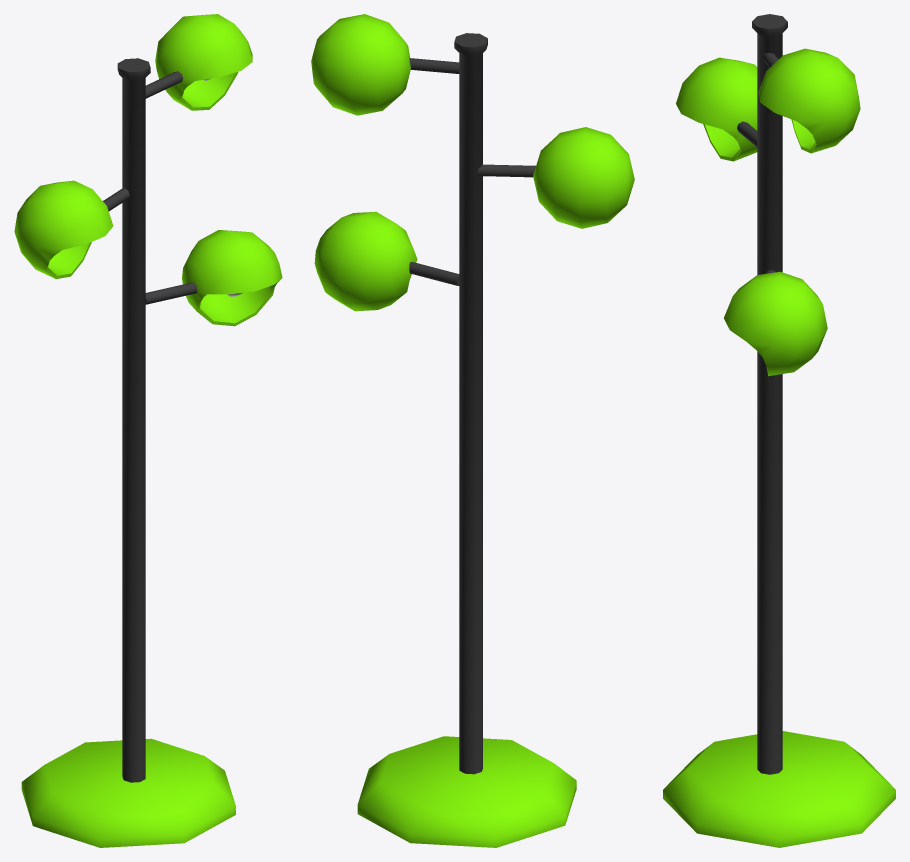
The model's file is Floor_Lamp_04.FBX.
3 renders of one model, left to right at view 1: azimuth 30°, elevation 25°; view 2: azimuth 150°, elevation 25°; view 3: azimuth 270°, elevation 25°, orthographic. The views are drawn at different scales.
Visible parts, largest first — view 1: Floor_Lamp; view 2: Floor_Lamp; view 3: Floor_Lamp.
Part boxes in pixels (x1,y1,x2,y2): Floor_Lamp: [14, 14, 282, 847]; Floor_Lamp: [311, 14, 634, 847]; Floor_Lamp: [663, 14, 895, 847].
Bounding box in the file's own units: 106 × 275 × 73.35.
